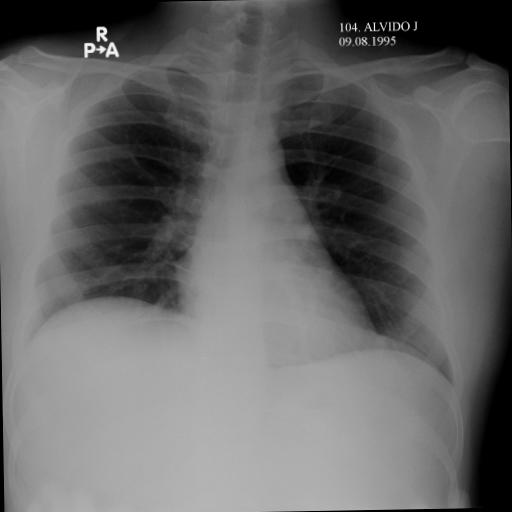normal: (4, 30, 472, 412)
